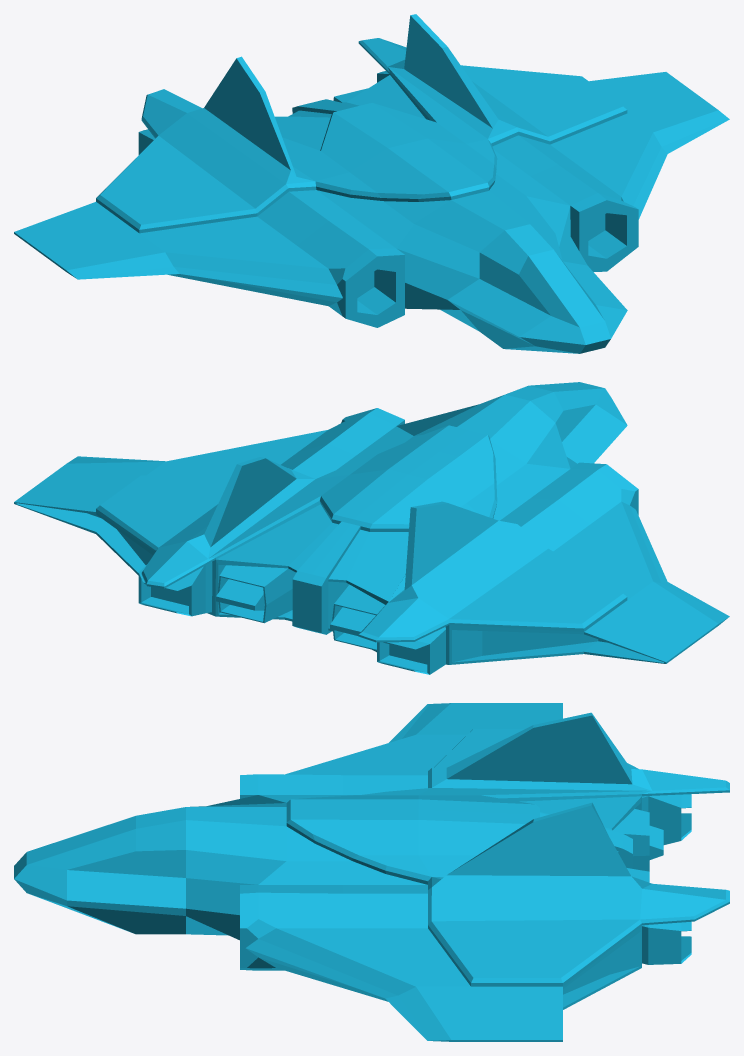
The model's file is Ship.gltf.
3 renders of one model, top to bottom at view 1: azimuth 30°, elevation 25°; view 2: azimuth 150°, elevation 25°; view 3: azimuth 270°, elevation 25°, orthographic. The views are drawn at different scales.
Parts seen in each view (by area): view 1: Ship; view 2: Ship; view 3: Ship.
Part boxes in pixels (left/top/right/bottom): Ship: left=14, top=14, right=729, bottom=353; Ship: left=14, top=382, right=729, bottom=674; Ship: left=14, top=703, right=729, bottom=1041.
Bounding box in the file's own units: 31.3 × 6.73 × 28.02.
